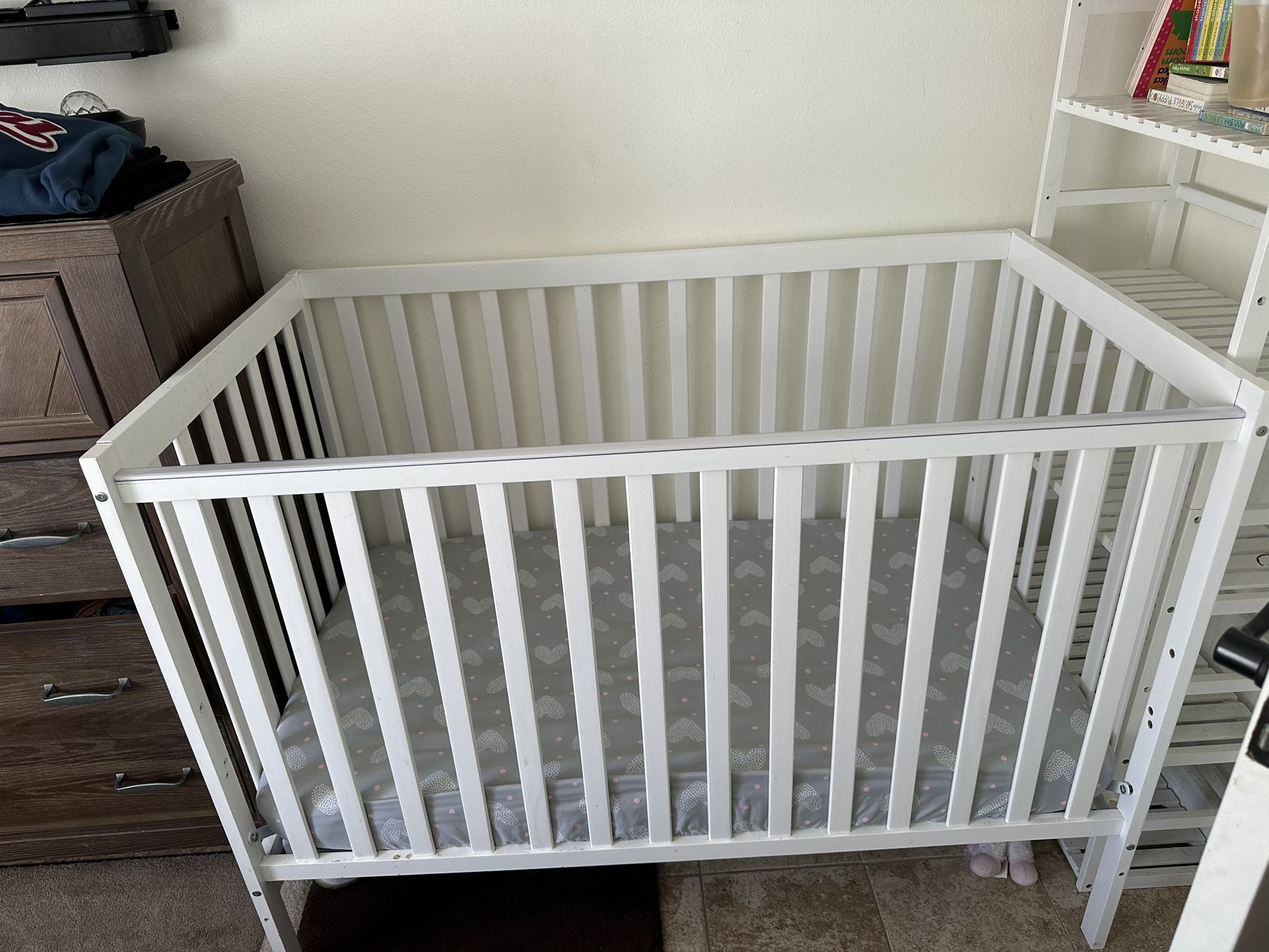crib: (83, 232, 1268, 949)
